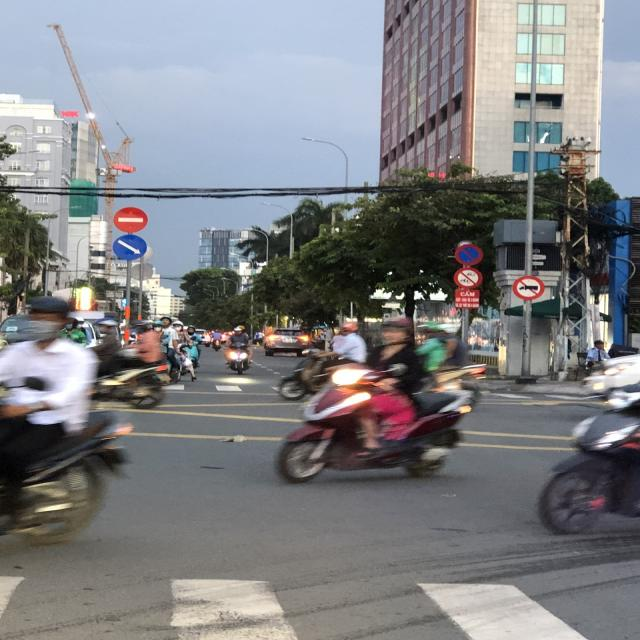Bien bao cam di nguoc chieu: (112, 205, 148, 234)
Bien bao cam do xe: (452, 240, 482, 266)
Bien bao cam xe so-mi ro-mooc: (511, 272, 545, 302)
Bien bao huong phai di vong chuong ngai vat: (108, 232, 149, 263)
